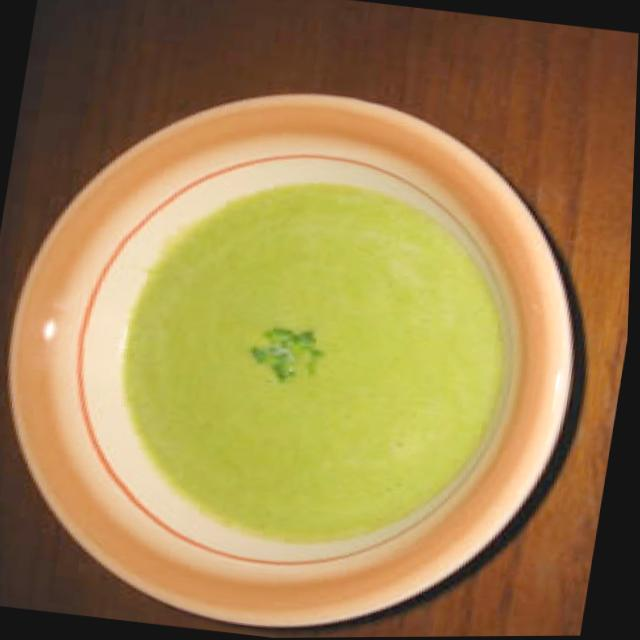汤锅炖物: (0, 47, 639, 640)
